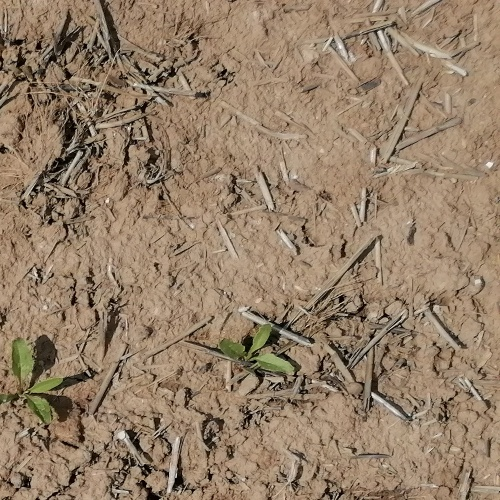beet: (0, 338, 63, 426), (218, 323, 297, 376)
